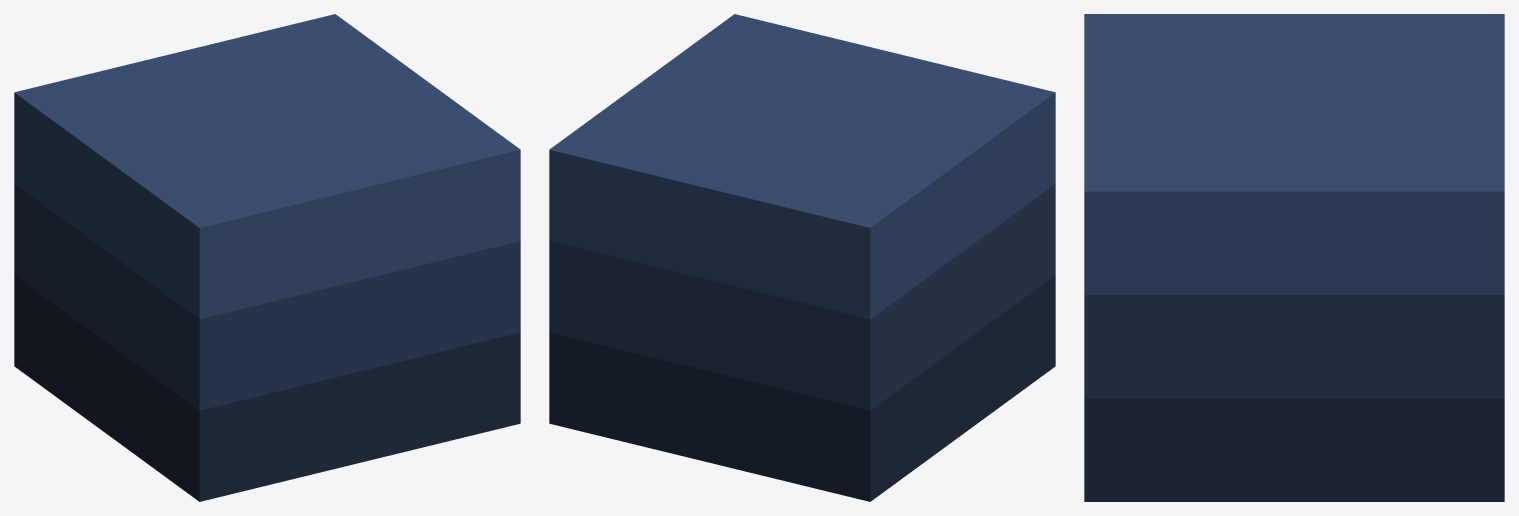
The model's file is WaterTile.glb.
3 views of the same model, side by side, from view 1: azimuth 30°, elevation 25°; view 2: azimuth 150°, elevation 25°; view 3: azimuth 270°, elevation 25° (orthographic). The views are drawn at different scales.
Parts seen in each view (by area): view 1: WaterTile.002; view 2: WaterTile.002; view 3: WaterTile.002.
Part boxes in pixels (<box>): WaterTile.002: <box>14,14,520,501</box>; WaterTile.002: <box>549,14,1055,501</box>; WaterTile.002: <box>1084,14,1504,501</box>.
Size of the model in its own units: 2 by 1.63 by 2.
